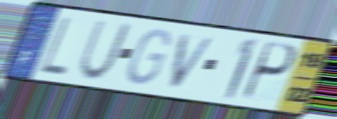1: (224, 37, 261, 102)
G: (125, 27, 172, 87)
L: (38, 14, 73, 78)
P: (238, 40, 299, 104)
U: (76, 18, 135, 82)
V: (167, 33, 219, 92)
